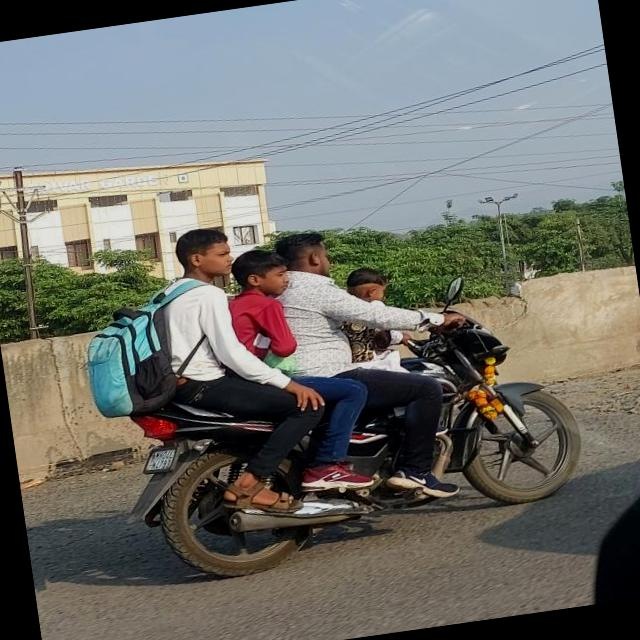motorcycle: (120, 292, 594, 590)
person: (129, 218, 290, 478), (264, 215, 420, 430), (222, 238, 324, 413), (328, 256, 436, 416)
rider_region: (70, 170, 593, 594)
